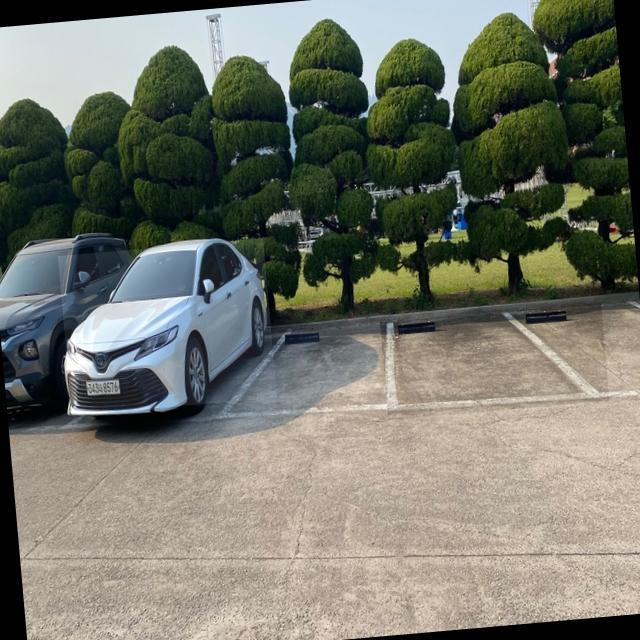empty: (382, 312, 609, 411), (213, 319, 400, 422)
occupied: (58, 238, 277, 415)
